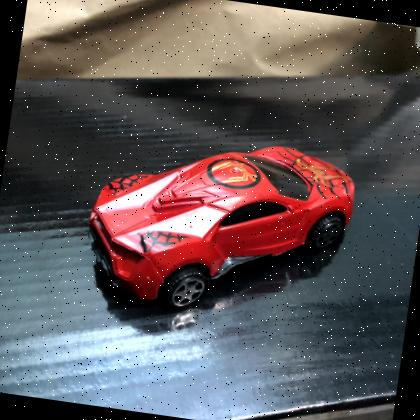Car: (88, 147, 356, 311)
